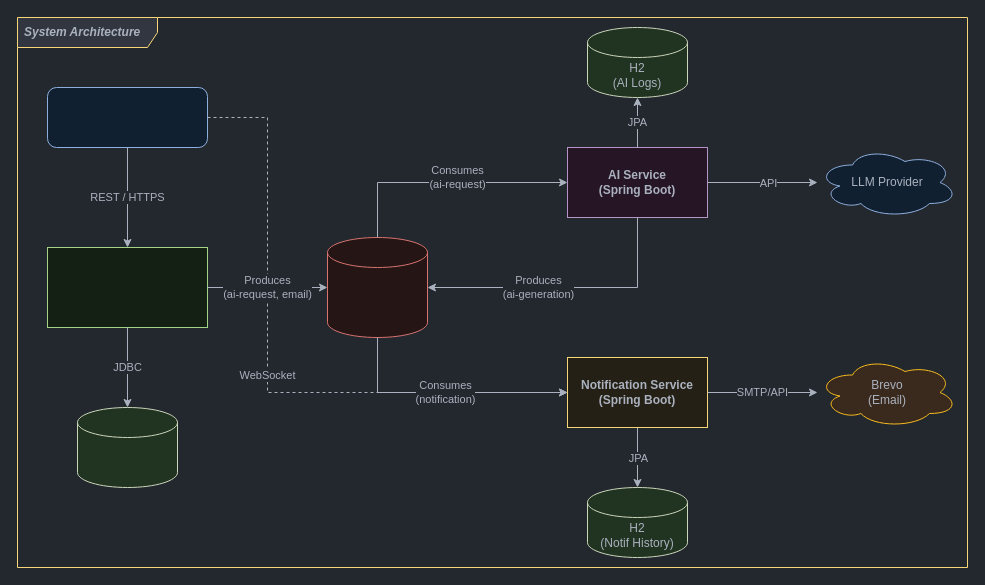
Image size: 985x585. Some labels were removed from this diagram. The centre of each missing label's shape, as x and y in pixels:
"Apache Kafka (Event Bus)" goes at point 377,287.
"API Service (Spring Boot)" goes at point 127,287.
"PostgreSQL (Main DB)" goes at point 127,447.
"React Client (PWA)" goes at point 127,117.
